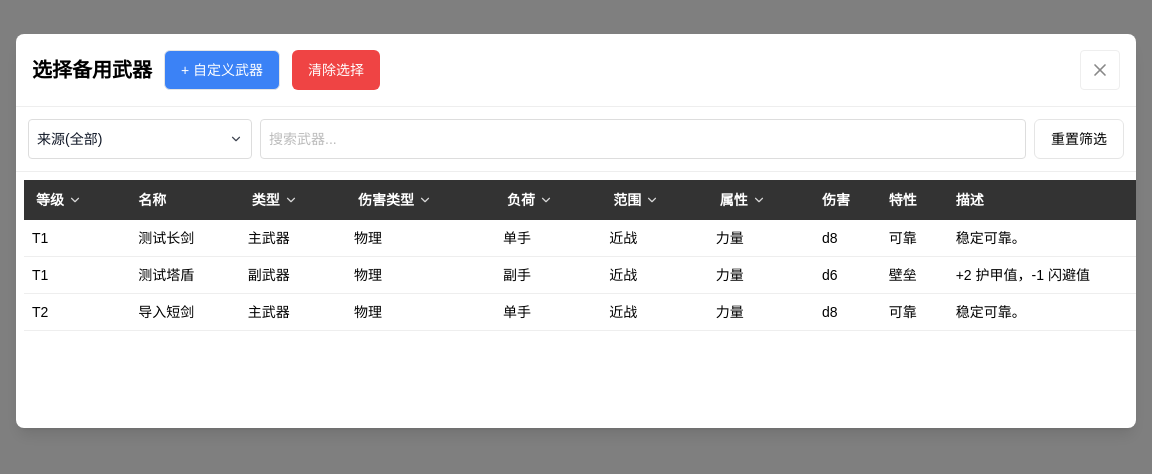
equipment selection modals › filters weapons by multiple tiers
This screenshot has width=1152, height=474.
Click the button with aria-label "等级筛选".
click(59, 200)  # box x1=32 y1=188 x2=86 y2=212
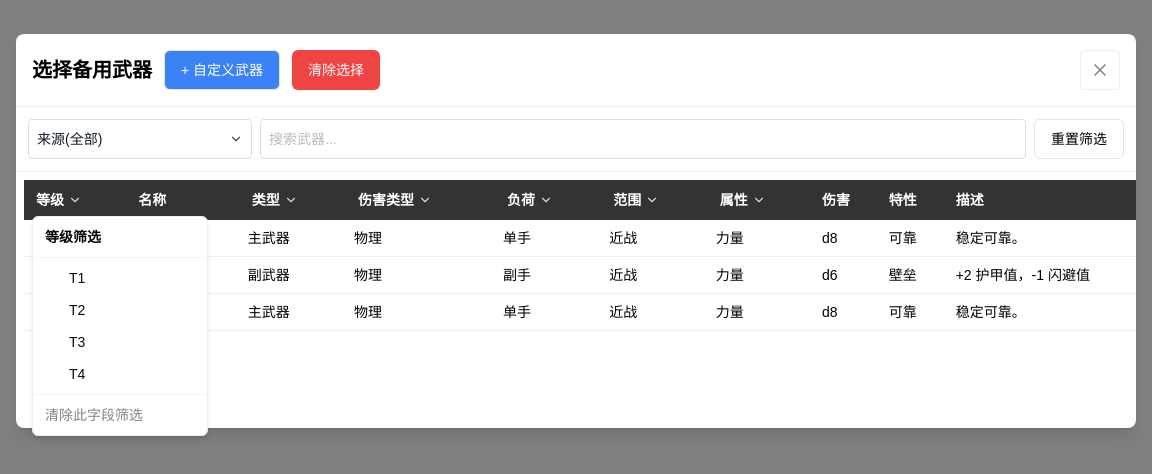
Click the menu item "T1".
click(77, 278)  # box x1=69 y1=270 x2=85 y2=286
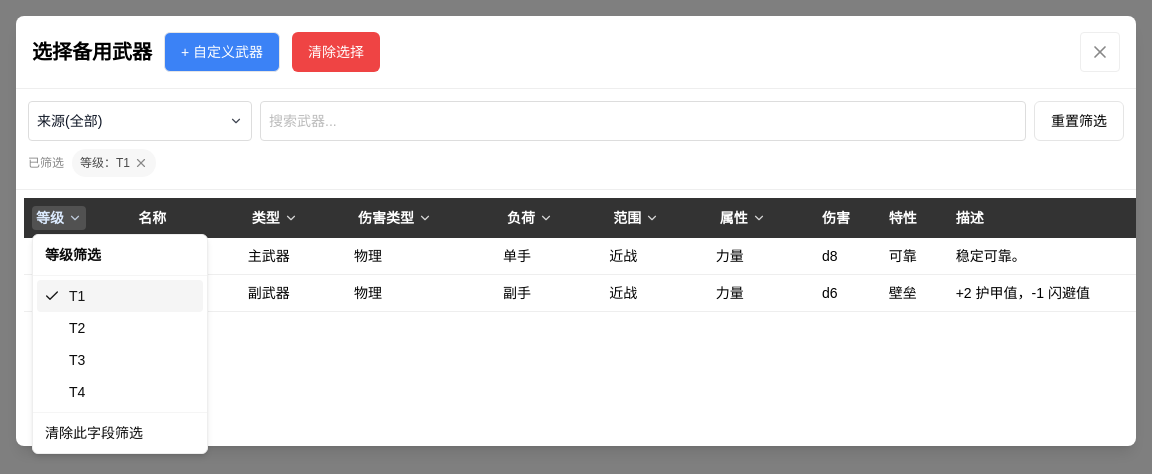
Click the menu item "T2".
click(77, 328)  # box x1=69 y1=320 x2=85 y2=336
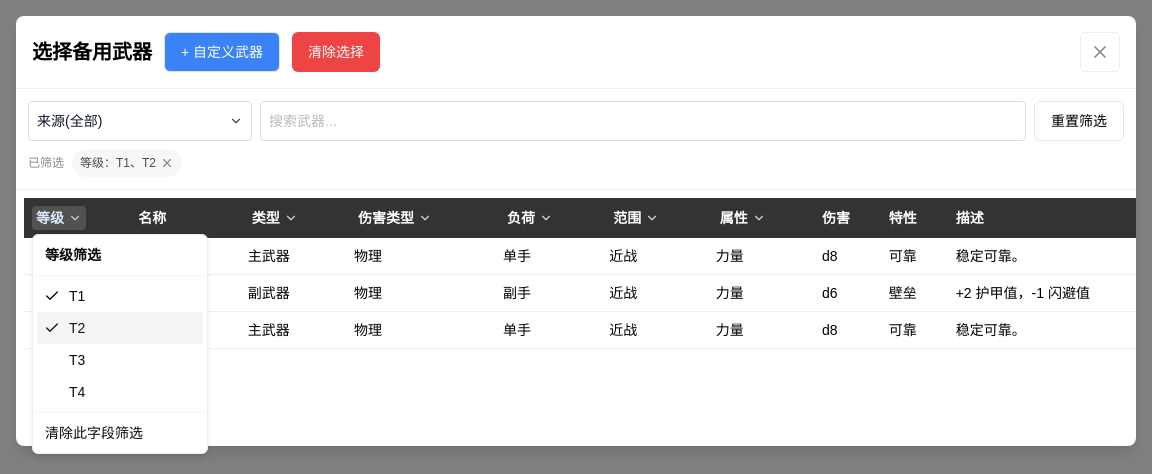
Expected: the text "等级：T1、T2" is shown, x1=72 y1=149 x2=182 y2=177
